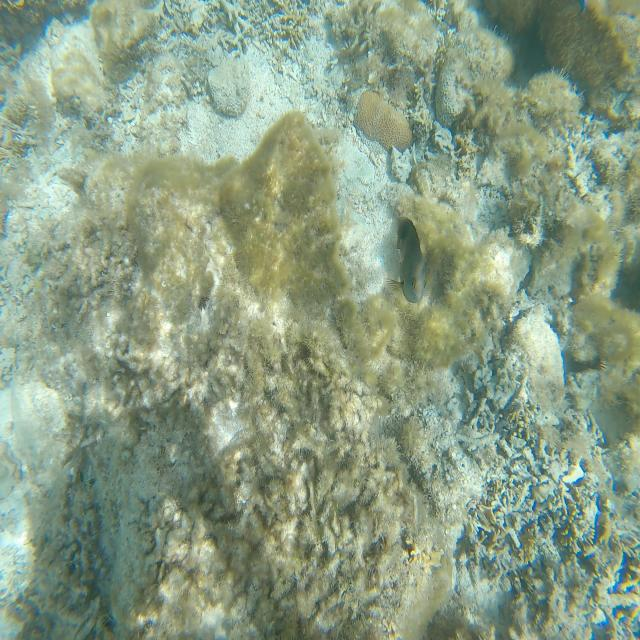rurisuzumedai: (397, 219, 425, 303)
